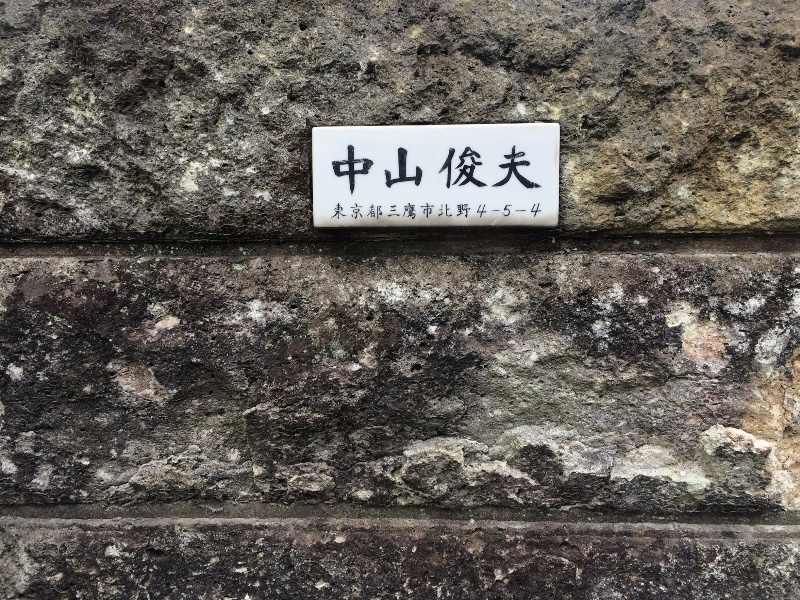text: (337, 145, 352, 198), (353, 145, 368, 198), (369, 145, 384, 198), (385, 145, 400, 198), (401, 145, 416, 198), (417, 145, 432, 198), (433, 145, 448, 198), (449, 145, 464, 198), (465, 145, 480, 198), (481, 145, 496, 198), (497, 145, 512, 198), (513, 145, 528, 198), (529, 145, 544, 198), (337, 204, 352, 222), (353, 204, 368, 222), (369, 204, 384, 222), (385, 204, 400, 222), (401, 204, 416, 222), (417, 204, 432, 222), (433, 204, 448, 222), (449, 204, 464, 222), (465, 204, 480, 222), (481, 204, 496, 222), (497, 204, 512, 222), (513, 204, 528, 222), (529, 204, 544, 222), (331, 145, 336, 198), (329, 204, 336, 222)
